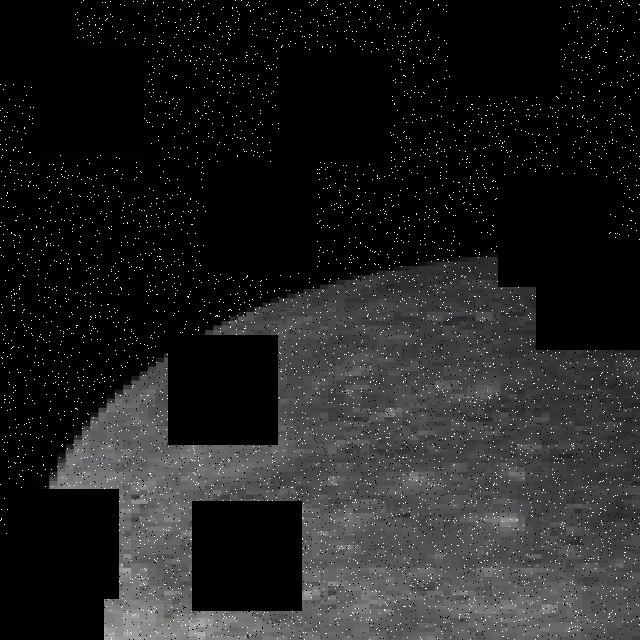Mercury: (33, 247, 640, 640)
